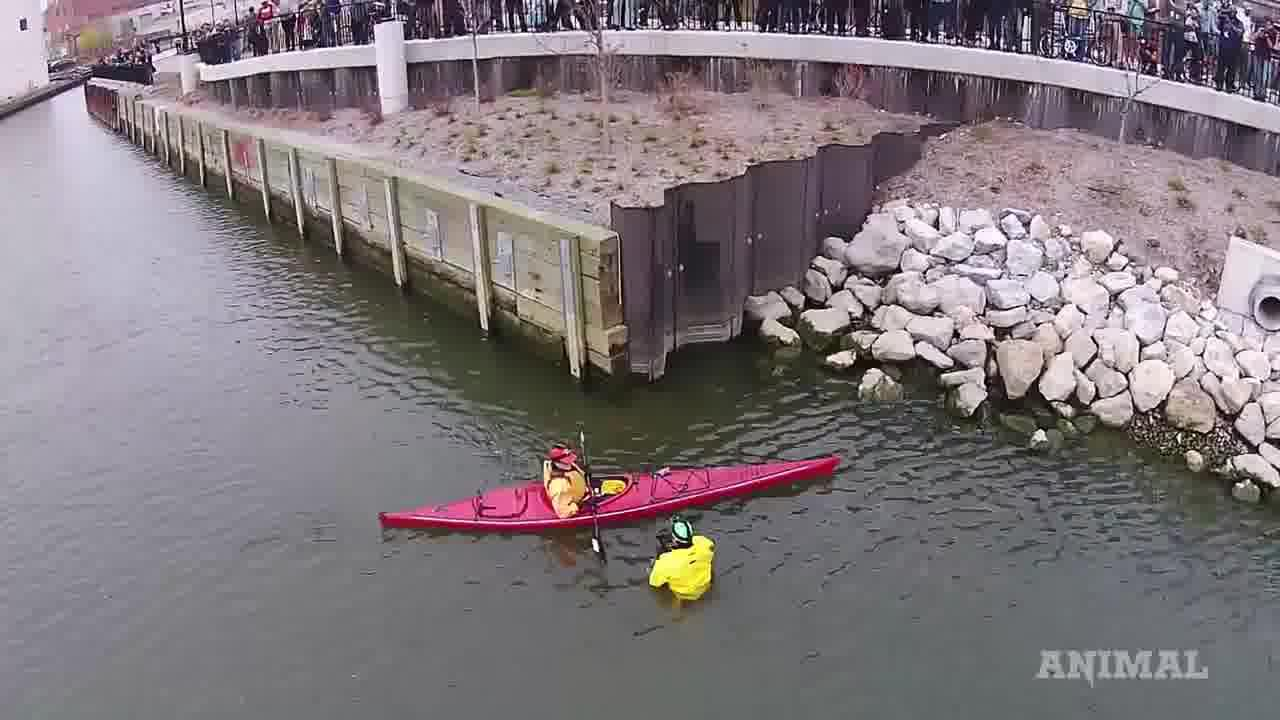human: (637, 520, 725, 606)
